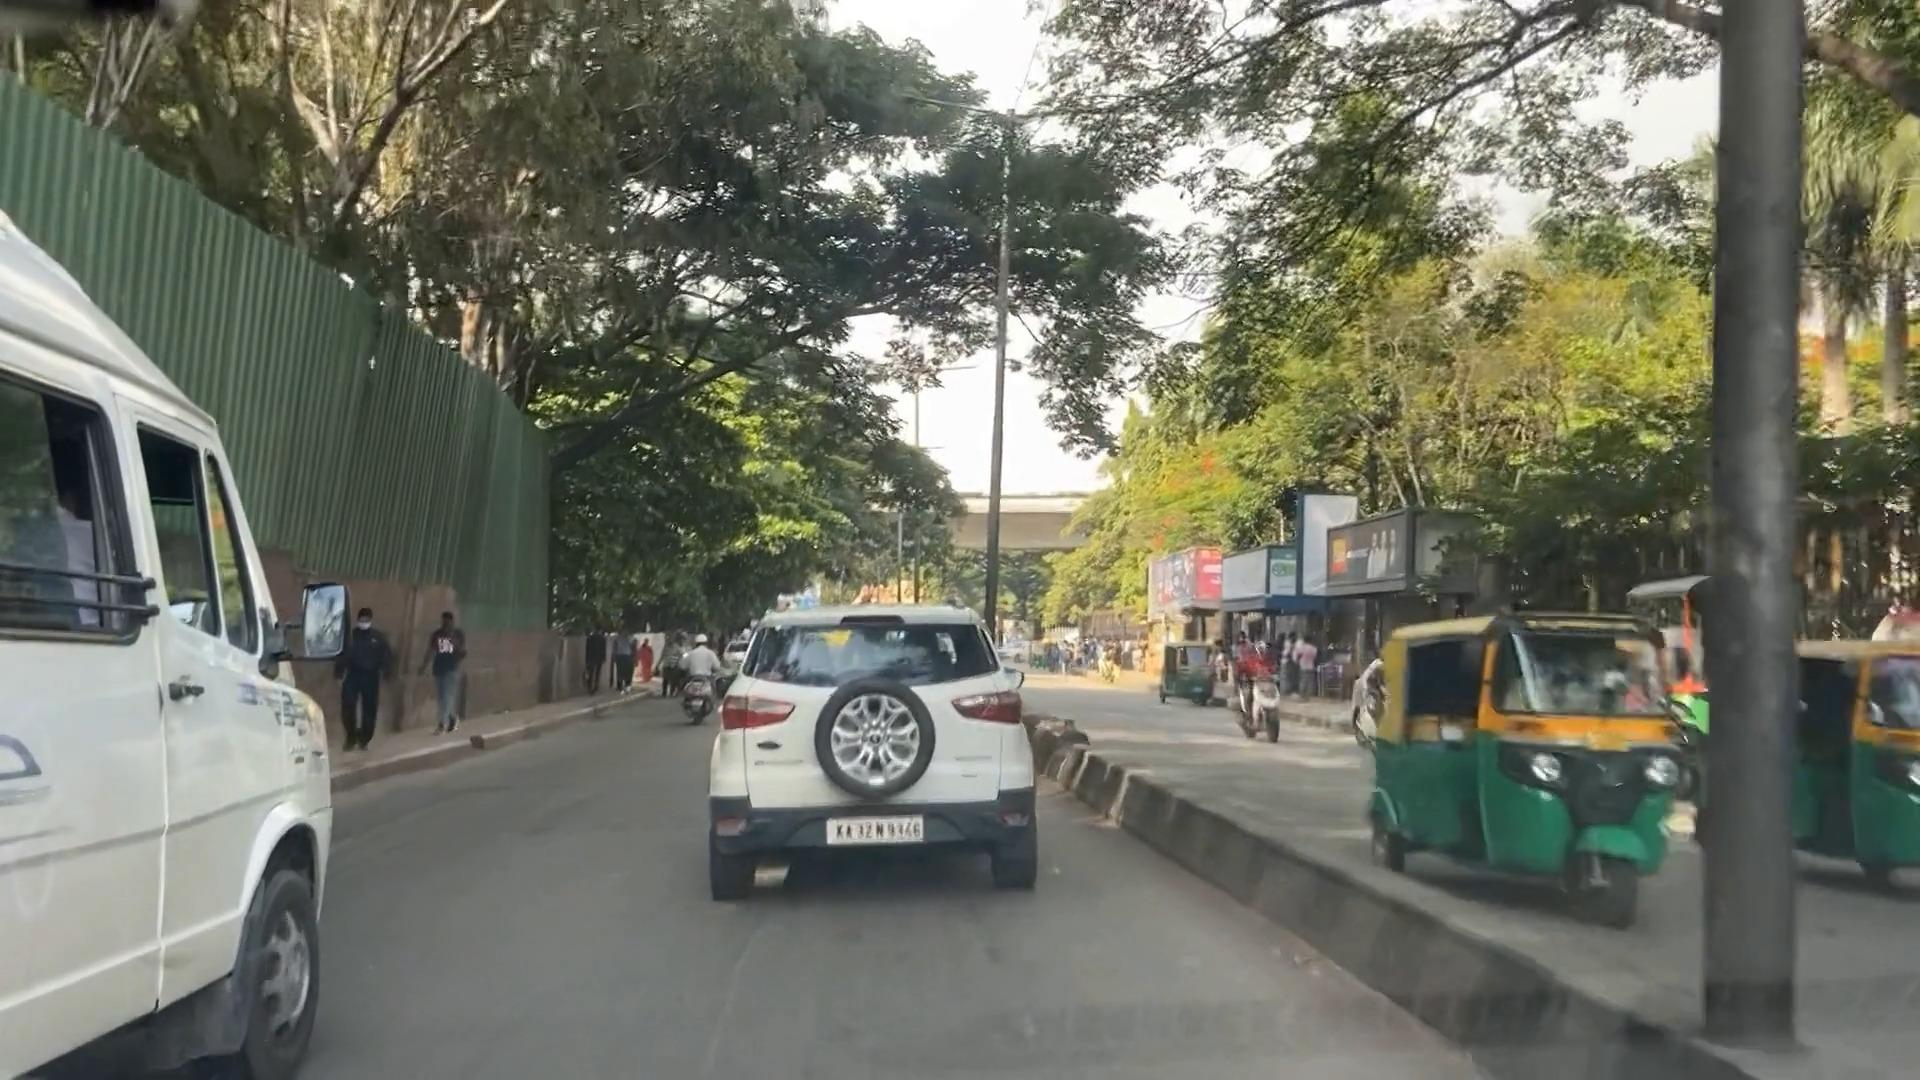HMV: (18, 233, 380, 1080)
LMV: (694, 550, 1075, 916)
